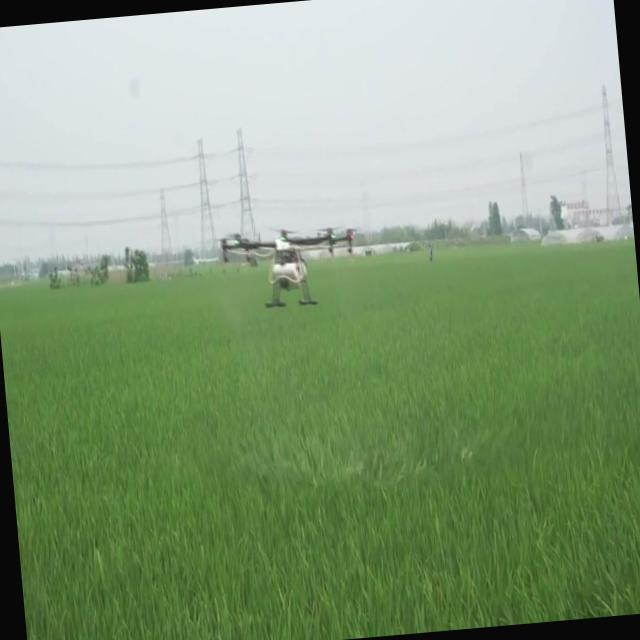drone: (215, 220, 362, 314)
